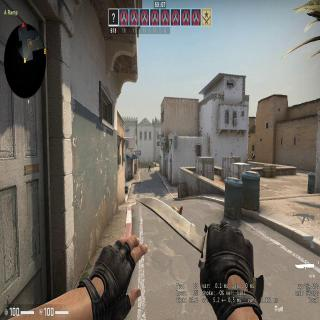CT-Body: (250, 153, 255, 160), (148, 164, 150, 172)
CT-Head: (148, 164, 150, 165), (252, 153, 253, 155)
